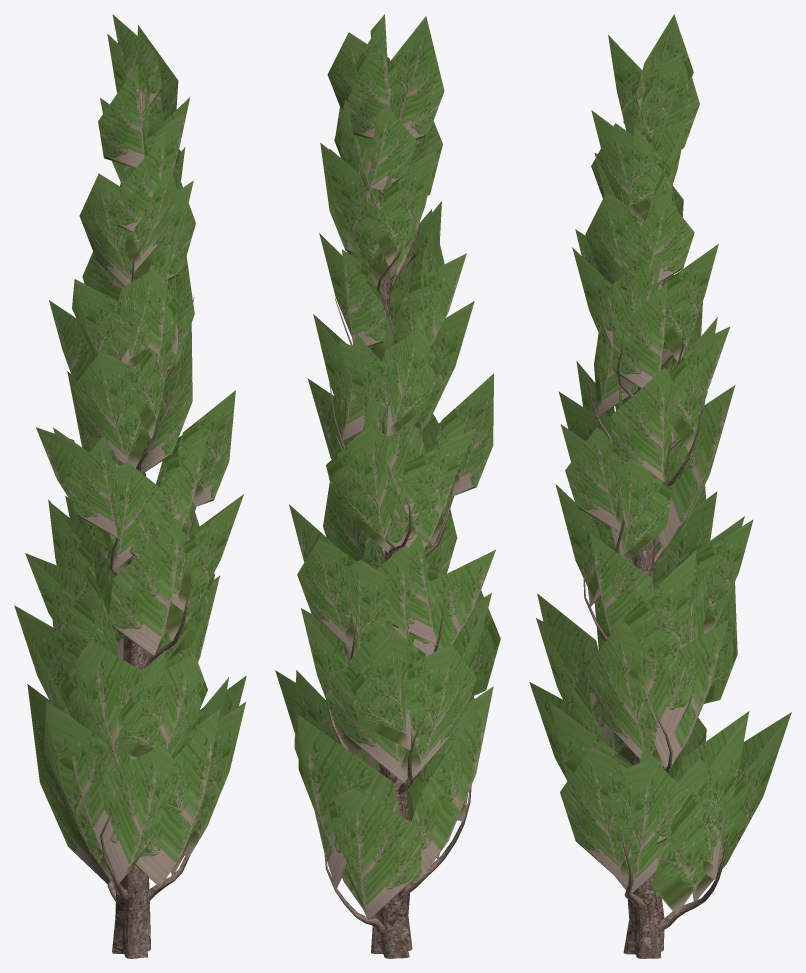
File: juniper.glb
3 views of the same model, side by side, from view 1: azimuth 30°, elevation 25°; view 2: azimuth 150°, elevation 25°; view 3: azimuth 270°, elevation 25° (orthographic). The views are drawn at different scales.
Parts seen in each view (by area): view 1: Tree_1, Tree_0; view 2: Tree_1, Tree_0; view 3: Tree_1, Tree_0.
Part boxes in pixels (<box>): Tree_1: <box>14,14,246,886</box>; Tree_0: <box>58,90,195,958</box>; Tree_1: <box>275,14,500,919</box>; Tree_0: <box>324,84,471,958</box>; Tree_1: <box>529,14,791,914</box>; Tree_0: <box>583,94,727,958</box>.
Size of the model in its own units: 1.48 by 6 by 1.53.
2 materials, 2 textured.
